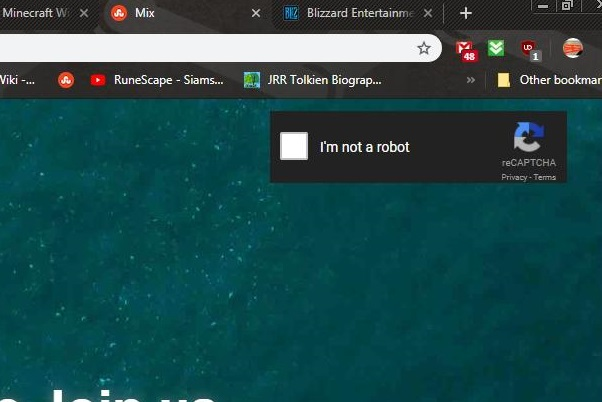captcha: (280, 131, 411, 160)
